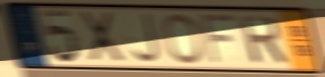5: (39, 7, 82, 65)
F: (198, 12, 238, 66)
J: (130, 11, 163, 66)
O: (161, 12, 205, 66)
R: (237, 15, 290, 67)
X: (77, 9, 128, 65)
